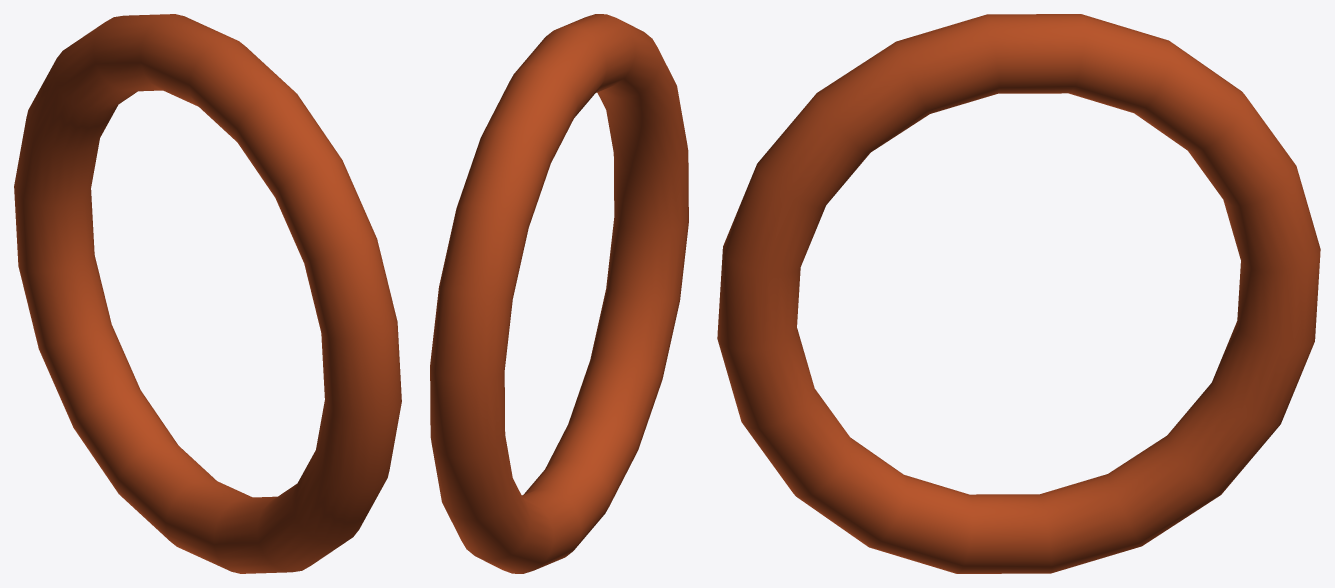
The picture shows the model from 3 angles, left to right: view 1: azimuth 30°, elevation 25°; view 2: azimuth 150°, elevation 25°; view 3: azimuth 270°, elevation 25°; orthographic projection. The views are drawn at different scales.
Visible parts, largest first — view 1: pTorus1; view 2: pTorus1; view 3: pTorus1.
Part boxes in pixels (<box>): pTorus1: <box>14,14,401,573</box>; pTorus1: <box>430,14,688,573</box>; pTorus1: <box>717,14,1320,573</box>.
Size of the model in its own units: 2.62 by 10.42 by 10.32.
